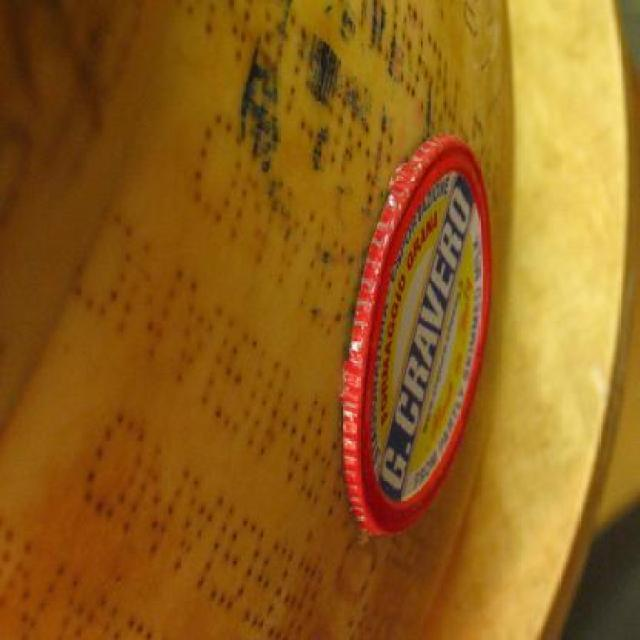Cheese: (0, 0, 501, 638)
